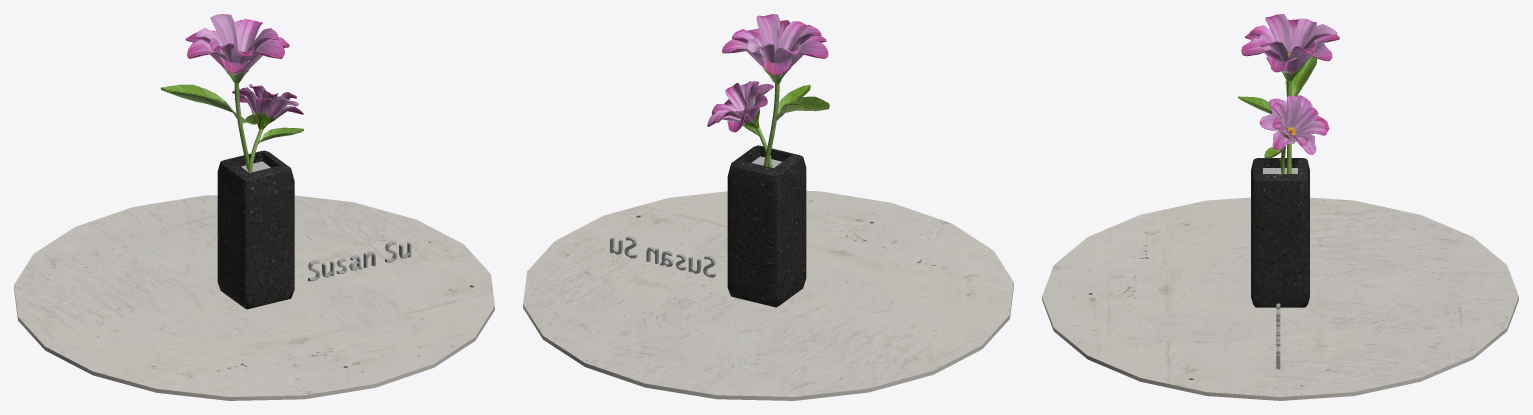
File: wk8_plant_sketchfab_su_susan.fbx
3 views of the same model, side by side, from view 1: azimuth 30°, elevation 25°; view 2: azimuth 150°, elevation 25°; view 3: azimuth 270°, elevation 25° (orthographic). The views are drawn at different scales.
Parts seen in each view (by area): view 1: pCylinder3, pCube14, pCube11, pCube15, signature:polySurface1, pCube8; view 2: pCylinder3, pCube14, pCube11, pCube15, signature:polySurface1, pCube8, pCylinder1; view 3: pCylinder3, pCube14, pCube11, pCube15, pCube8.
Part boxes in pixels (x1,y1,x2,y2): pCylinder3: (14, 195, 494, 400); pCube14: (217, 150, 294, 309); pCube11: (185, 14, 289, 74); pCube15: (232, 84, 303, 119); signature:polySurface1: (308, 241, 411, 281); pCube8: (160, 84, 238, 120); pCylinder3: (523, 191, 1013, 400); pCube14: (727, 145, 806, 307); pCube11: (722, 14, 828, 76); pCube15: (707, 81, 773, 132); signature:polySurface1: (610, 236, 715, 277); pCube8: (776, 96, 829, 120); pCylinder1: (763, 83, 779, 166); pCylinder3: (1042, 197, 1518, 400); pCube14: (1251, 158, 1309, 307); pCube11: (1241, 14, 1339, 74); pCube15: (1259, 95, 1329, 154); pCube8: (1285, 56, 1317, 96).
Size of the model in its own units: 279 by 172 by 279.
